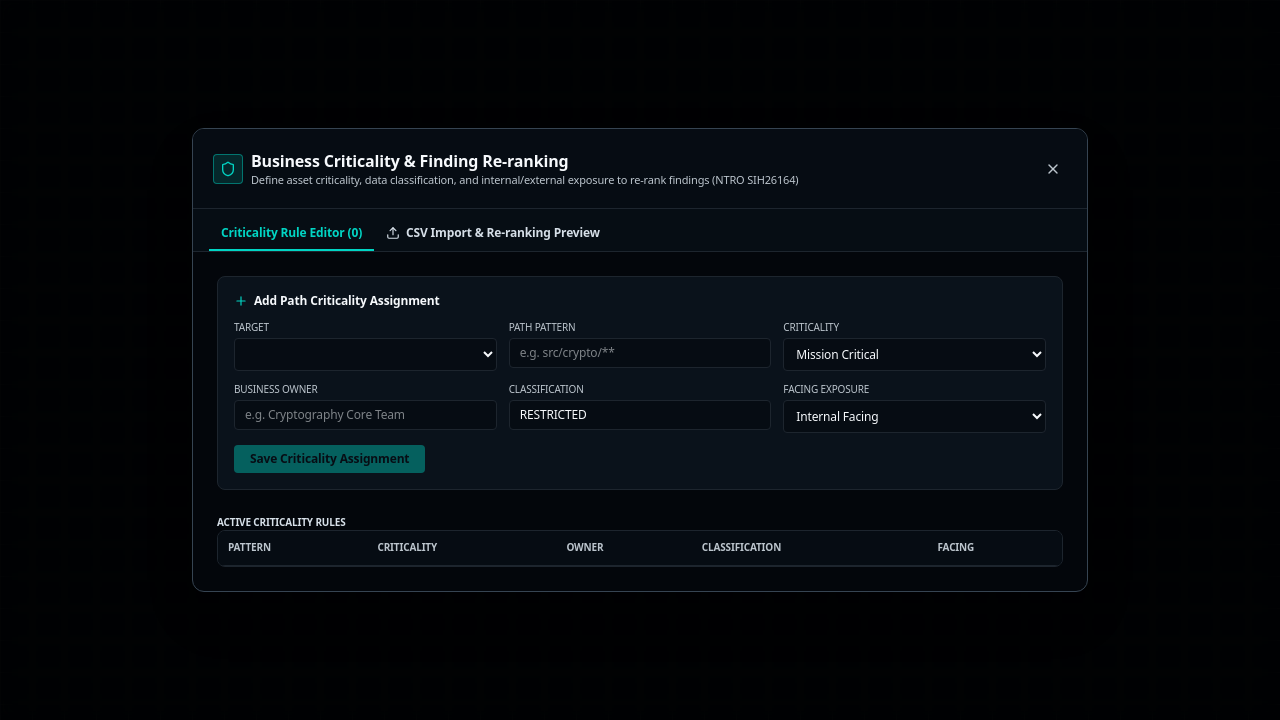
Test: SCR-04 Ext: CriticalityModal (M5 PS-Gap) › displays CSV validation error on invalid criticality value
Click the button "CSV Import & Re-ranking Preview". click: click(493, 234)
box: [374,217,612,251]
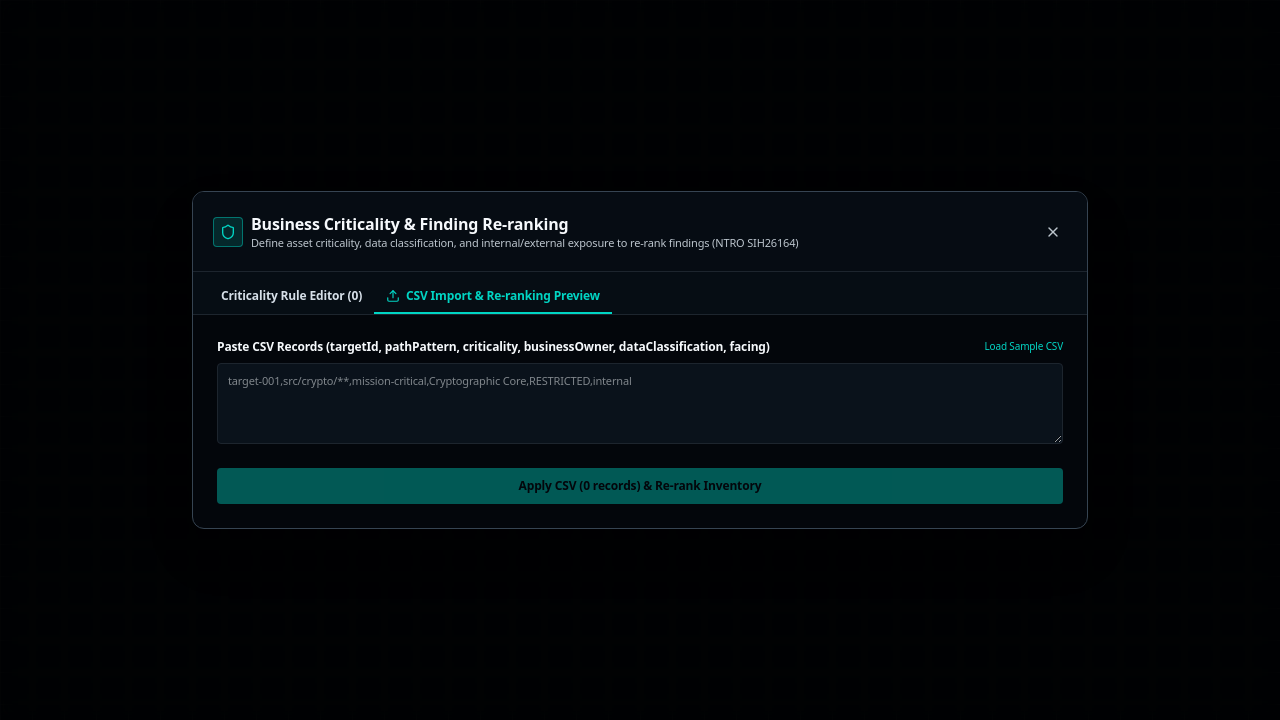
Replace the text in the text box labelled "Paste CSV Records" with "target-001,src/**,INVALID_CRITICALITY,Security,RESTRICTED,internal". click: (640, 403)
box: [217,363,1063,444]
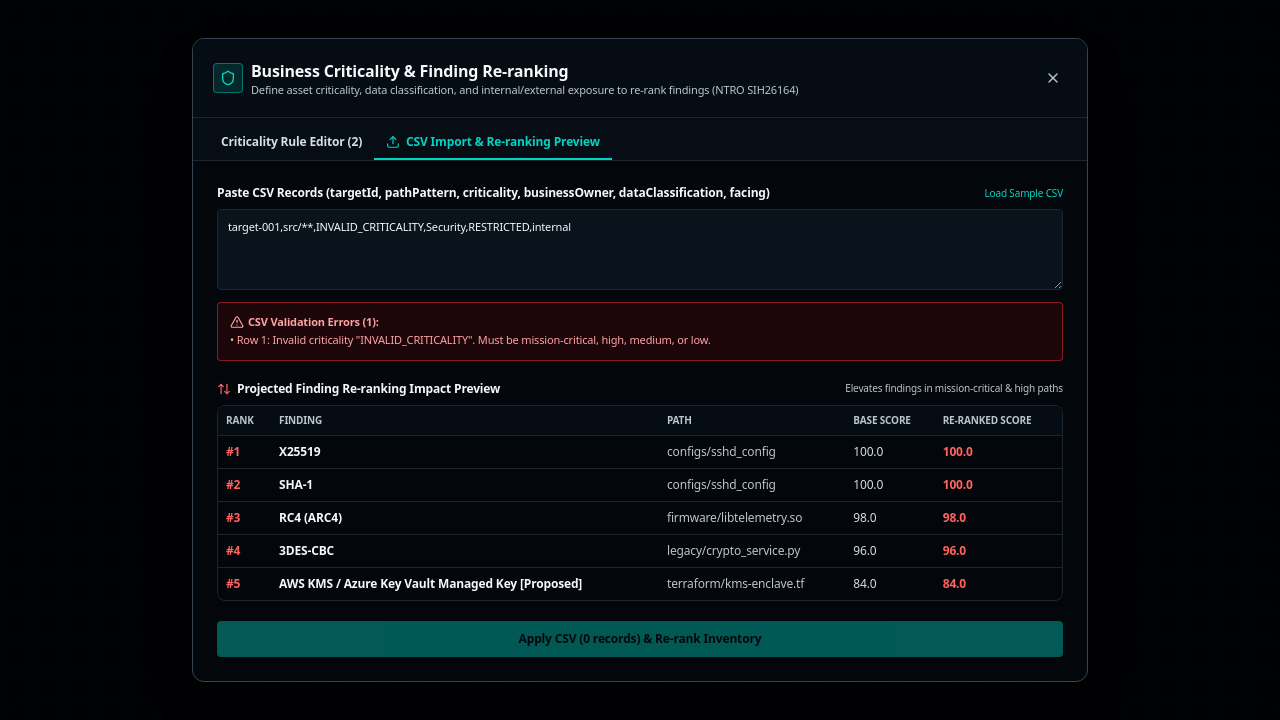
Expected: the button "Apply CSV (0 records) & Re-rank Inventory" is disabled, [217,622,1063,658]
Expected: the text "Invalid criticality \"INVALID_CRITICALITY\"" is shown, [237,332,711,348]
